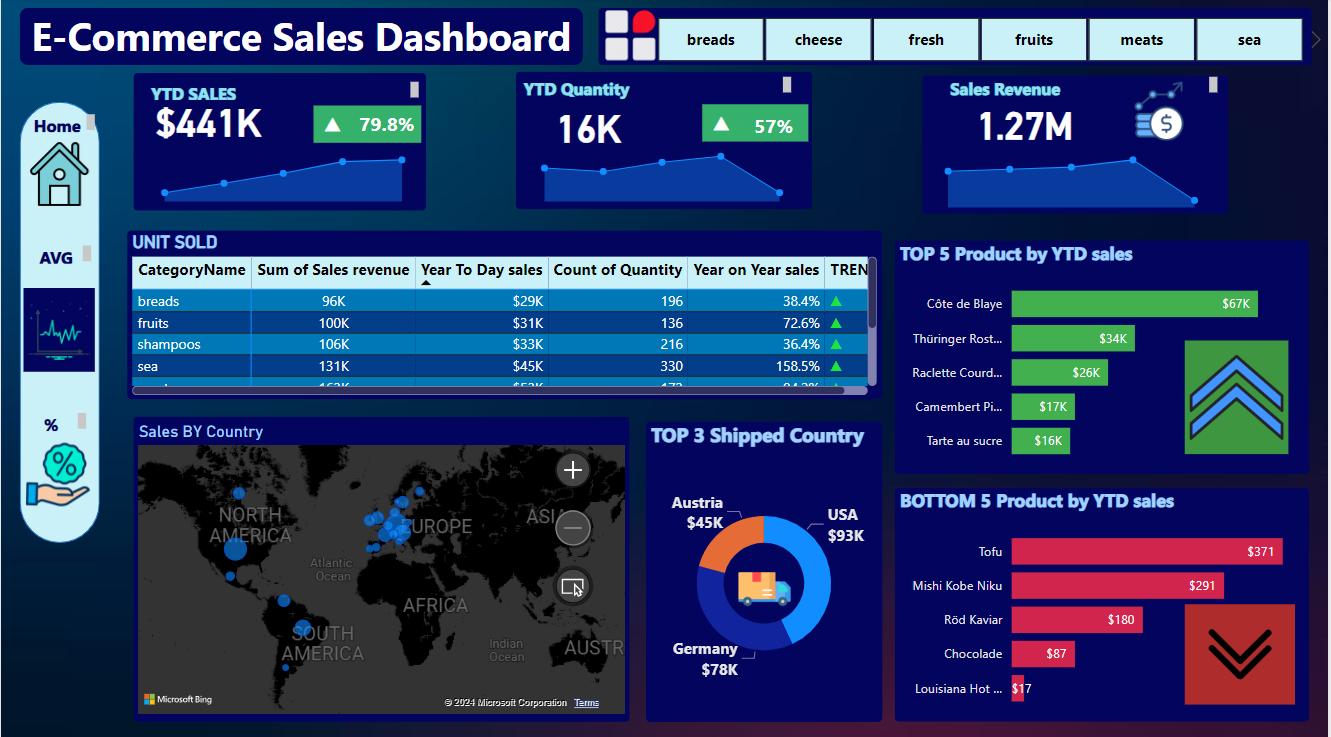

This screenshot's page, from the dashboard's own definition file:
{"tool":"powerbi","page":{"name":"Home","canvas":[1280,720],"ordinal":0},"visuals":[{"type":"shape","box":[17.8,9.6,543.4,54.9],"z":0},{"type":"textbox","box":[17.8,5.5,543.4,61.7],"z":1000},{"type":"shape","box":[127.6,72.6,282.2,132.7],"z":2000},{"type":"shape","box":[496.6,71.6,285.8,132.7],"z":3000},{"type":"shape","box":[888.3,74.4,295.3,133.2],"z":4000},{"type":"card","fields":{"Values":["Calender.Year To Day sales"]},"box":[127.8,94.1,156.8,47],"z":5000},{"type":"areaChart","fields":{"Category":["Calender.Month"],"Y":["Calender.Year To Day sales"]},"box":[130,128.1,284.6,74.8],"z":6000},{"type":"shape","box":[301.4,104,104.3,35.7],"z":7000},{"type":"card","fields":{"Values":["OrdersDetails.Year on Year sales"]},"box":[338.4,105.4,67.2,37],"z":8000},{"type":"card","fields":{"Values":["OrdersDetails.sales icon"]},"box":[301.4,106.7,37,32.9],"z":9000},{"type":"textbox","box":[477.8,71.5,289.5,31.6],"z":10000},{"type":"card","fields":{"Values":["Orders.YTD Quantity"]},"box":[481.9,100.3,168.8,46.7],"z":11000},{"type":"shape","box":[676.3,103,102.5,36.2],"z":12000},{"type":"card","fields":{"Values":["Orders.YOY quantity"]},"box":[712.3,105.6,65.9,37.1],"z":13000},{"type":"card","fields":{"Values":["Orders.Quantity icon"]},"box":[676,105.9,37.1,33],"z":14000},{"type":"shape","box":[576.9,9.6,688.2,54.9],"z":15000},{"type":"areaChart","fields":{"Category":["Calender.Month"],"Y":["Sum(OrdersDetails.Quantity)"]},"box":[496.9,126.6,282.2,76],"z":16000},{"type":"textbox","box":[118.1,76.3,289.5,27.4],"z":17000},{"type":"shape","box":[121.8,224.3,728.4,162.8],"z":18000},{"type":"pivotTable","title":"UNIT SOLD","fields":{"Rows":["Categories.CategoryName"],"Values":["Sum(OrdersDetails.Net sales revneu)","Calender.Year To Day sales","CountNonNull(OrdersDetails.Quantity)","OrdersDetails.Year on Year sales","OrdersDetails.sales icon"]},"box":[121.8,225.5,728.4,162.8],"z":19000},{"type":"shape","box":[127.8,404,478.8,294.3],"z":20000},{"type":"map","title":"Sales BY Country","fields":{"Category":["Customers.Country"],"Size":["Sum(OrdersDetails.Net sales revneu)"]},"box":[127.8,408.8,478.8,287],"z":21000},{"type":"shape","box":[862.5,233.4,399.7,225.3],"z":22000},{"type":"shape","box":[862.5,472.4,399.7,225.3],"z":23000},{"type":"barChart","title":"TOP 5 Product by YTD sales","fields":{"Category":["Product.ProductName"],"Y":["Calender.Year To Day sales"]},"box":[862.1,233.5,400.4,225.5],"z":24000},{"type":"barChart","title":"BOTTOM 5 Product by YTD sales","fields":{"Category":["Product.ProductName"],"Y":["Calender.Year To Day sales"]},"box":[862.5,472.4,399.7,225.3],"z":25000},{"type":"slicer","fields":{"Values":["Categories.CategoryName"]},"box":[607.8,12.1,671.8,55.5],"z":26000},{"type":"card","fields":{"Values":["Sum(OrdersDetails.Net sales revneu)"]},"box":[903.4,96.4,169,46.7],"z":27000},{"type":"areaChart","fields":{"Category":["Calender.Month"],"Y":["Sum(OrdersDetails.sales Revenue)"]},"box":[885.5,132.1,295.3,75.6],"z":28000},{"type":"textbox","box":[888.3,71.7,289.8,31.6],"z":29000},{"type":"image","box":[1062.5,76,109.7,66.3],"z":30000},{"type":"image","box":[1142.1,346.1,100.1,94.1],"z":31000},{"type":"image","box":[1142.1,584.9,106.1,96.5],"z":32000},{"type":"image","box":[570.5,2.4,73.6,67.5],"z":33000},{"type":"shape","box":[622.3,408.8,227.9,289.4],"z":34000},{"type":"donutChart","title":"TOP 3 Shipped Country","fields":{"Y":["Calender.Year To Day sales"],"Category":["Orders.ShipCountry"]},"box":[622.3,408.8,227.9,287],"z":35000},{"type":"image","box":[697.1,540.3,79.6,60.3],"z":36000},{"type":"shape","box":[18.1,100.1,77.2,425.7],"z":37000},{"type":"image","box":[19.3,420.9,71.2,77.2],"z":38000},{"type":"image","box":[20.5,127.8,71.2,83.2],"z":39000},{"type":"image","box":[21.7,279.8,68.7,80.8],"z":40000},{"type":"textbox","box":[22.9,234,68.7,27.7],"z":41000},{"type":"textbox","box":[26.5,107.3,68.7,27.7],"z":42000},{"type":"textbox","box":[18.1,395.6,68.7,27.7],"z":43000}]}

Visuals, with their boxes in screenshot pixels (x1, y1, x2, y2), scaled from the page's 1280x720 canvas onto the 1331x737 screenshot:
shape: left=19, top=10, right=584, bottom=66
textbox: left=19, top=6, right=584, bottom=69
shape: left=133, top=74, right=426, bottom=210
shape: left=516, top=73, right=814, bottom=209
shape: left=924, top=76, right=1231, bottom=213
card - Calender.Year To Day sales: left=133, top=96, right=296, bottom=144
areaChart - Calender.Month x Calender.Year To Day sales: left=135, top=131, right=431, bottom=208
shape: left=313, top=106, right=422, bottom=143
card - OrdersDetails.Year on Year sales: left=352, top=108, right=422, bottom=146
card - OrdersDetails.sales icon: left=313, top=109, right=352, bottom=143
textbox: left=497, top=73, right=798, bottom=106
card - Orders.YTD Quantity: left=501, top=103, right=677, bottom=150
shape: left=703, top=105, right=810, bottom=142
card - Orders.YOY quantity: left=741, top=108, right=809, bottom=146
card - Orders.Quantity icon: left=703, top=108, right=742, bottom=142
shape: left=600, top=10, right=1316, bottom=66
areaChart - Calender.Month x Sum(OrdersDetails.Quantity): left=517, top=130, right=810, bottom=207
textbox: left=123, top=78, right=424, bottom=106
shape: left=127, top=230, right=884, bottom=396
"UNIT SOLD" pivotTable: left=127, top=231, right=884, bottom=397
shape: left=133, top=414, right=631, bottom=715
"Sales BY Country" map: left=133, top=418, right=631, bottom=712
shape: left=897, top=239, right=1312, bottom=470
shape: left=897, top=484, right=1312, bottom=714
"TOP 5 Product by YTD sales" barChart: left=896, top=239, right=1313, bottom=470
"BOTTOM 5 Product by YTD sales" barChart: left=897, top=484, right=1312, bottom=714
slicer - Categories.CategoryName: left=632, top=12, right=1330, bottom=69
card - Sum(OrdersDetails.Net sales revneu): left=939, top=99, right=1115, bottom=146
areaChart - Calender.Month x Sum(OrdersDetails.sales Revenue): left=921, top=135, right=1228, bottom=213
textbox: left=924, top=73, right=1225, bottom=106
image: left=1105, top=78, right=1219, bottom=146
image: left=1188, top=354, right=1292, bottom=451
image: left=1188, top=599, right=1298, bottom=697
image: left=593, top=2, right=670, bottom=72
shape: left=647, top=418, right=884, bottom=715
"TOP 3 Shipped Country" donutChart: left=647, top=418, right=884, bottom=712
image: left=725, top=553, right=808, bottom=615
shape: left=19, top=102, right=99, bottom=538
image: left=20, top=431, right=94, bottom=510
image: left=21, top=131, right=95, bottom=216
image: left=23, top=286, right=94, bottom=369
textbox: left=24, top=240, right=95, bottom=268
textbox: left=28, top=110, right=99, bottom=138
textbox: left=19, top=405, right=90, bottom=433
